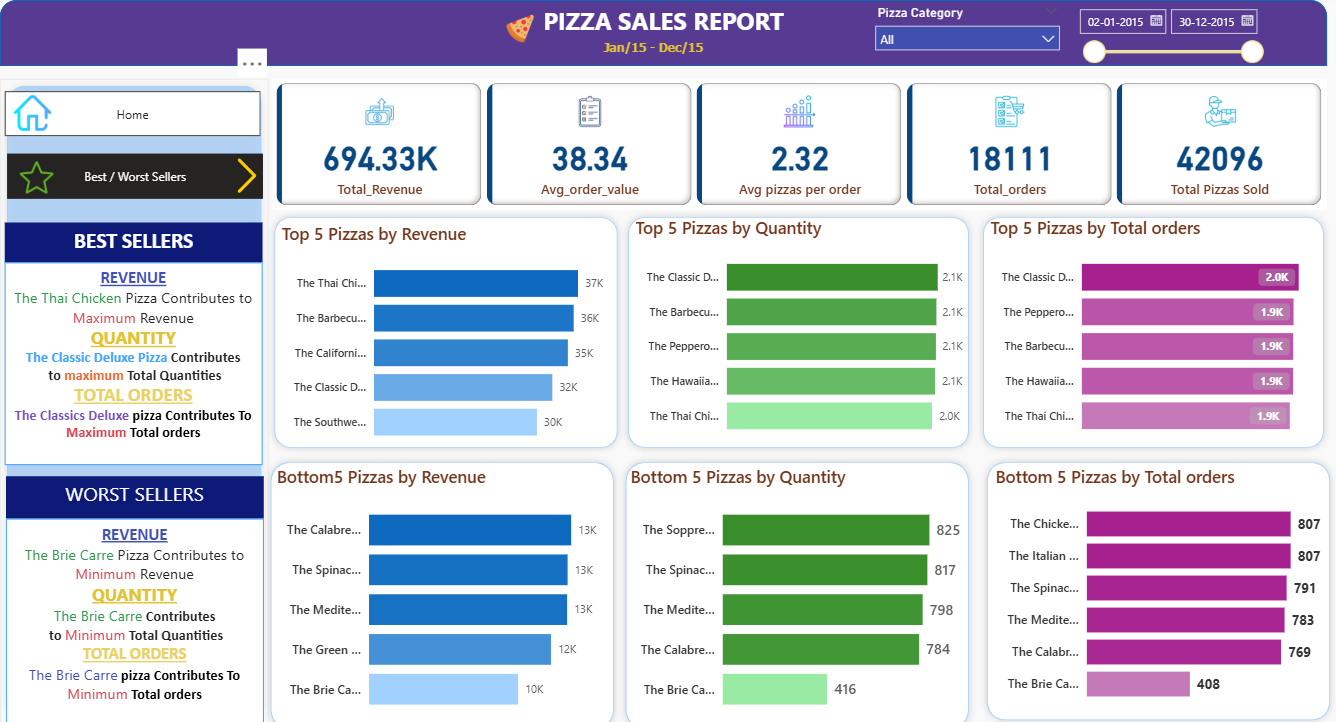

This screenshot's page, from the dashboard's own definition file:
{"tool":"powerbi","page":{"name":"Best / Worst Sellers","canvas":[1500,820],"ordinal":1},"visuals":[{"type":"cardVisual","fields":{"Data":["pizza_sales.Total_Revenue","pizza_sales.Avg_order_value","pizza_sales.Avg pizzas per order","pizza_sales.Total_orders","pizza_sales.Total Pizzas Sold"]},"box":[313.4,87.7,1175.4,146.2],"z":0},{"type":"shape","box":[9.7,0,1479,73.8],"z":1000},{"type":"textbox","box":[604.4,0,289.7,64.1],"z":2000},{"type":"textbox","box":[639.2,39,197.8,30.6],"z":3000},{"type":"image","box":[559.9,11.1,58.5,41.8],"z":4000},{"type":"shape","box":[307.8,234,398.3,273],"z":5000},{"type":"shape","box":[9.7,87.7,299.4,721.4],"z":6000},{"type":"textbox","box":[15.3,247.9,286.9,44.6],"z":7000},{"type":"textbox","box":[15.3,292.5,286.9,225.6],"z":8000},{"type":"textbox","box":[16.7,530.6,286.9,47.4],"z":9000},{"type":"textbox","box":[16.7,578,286.9,231.2],"z":10000},{"type":"slicer","title":"Pizza Category","fields":{"Values":["pizza_sales.pizza_category"]},"box":[974.9,0,225.6,71],"z":11000},{"type":"slicer","title":"Pizza Category","fields":{"Values":["pizza_sales.order_date"]},"box":[1200.5,0,225.6,73.8],"z":12000},{"type":"shape","box":[1097.4,234,395.5,273],"z":13000},{"type":"shape","box":[701.9,234,395.5,273],"z":14000},{"type":"shape","box":[303.6,506.9,398.3,313.4],"z":15000},{"type":"shape","box":[699.1,506.9,398.3,313.4],"z":16000},{"type":"shape","box":[1101.6,506.9,398.3,303.6],"z":17000},{"type":"barChart","title":"Top 5 Pizzas by Revenue","fields":{"Category":["pizza_sales.pizza_name"],"Y":["pizza_sales.Total_Revenue"]},"box":[318.9,247.9,380.2,259],"z":18000},{"type":"barChart","title":"Bottom5 Pizzas by Revenue","fields":{"Category":["pizza_sales.pizza_name"],"Y":["pizza_sales.Total_Revenue"]},"box":[313.6,517.8,379.5,291.1],"z":19000},{"type":"barChart","title":"Top 5 Pizzas by Quantity","fields":{"Category":["pizza_sales.pizza_name"],"Y":["pizza_sales.Total Pizzas Sold"]},"box":[713,240.9,374.6,259],"z":20000},{"type":"barChart","title":"Bottom 5 Pizzas by Quantity","fields":{"Category":["pizza_sales.pizza_name"],"Y":["pizza_sales.Total Pizzas Sold"]},"box":[707.5,517.8,379.5,291.1],"z":21000},{"type":"barChart","title":"Top 5 Pizzas by Total orders","fields":{"Category":["pizza_sales.pizza_name"],"Y":["pizza_sales.Total_orders"]},"box":[1108,241.2,374.7,258.9],"z":22000},{"type":"barChart","title":"Bottom 5 Pizzas by Total orders","fields":{"Category":["pizza_sales.pizza_name"],"Y":["pizza_sales.Total_orders"]},"box":[1114.4,517.8,374.7,278.2],"z":23000},{"type":"pageNavigator","box":[15.3,101.7,285.5,50.1],"z":24000},{"type":"pageNavigator","box":[18.1,171.3,285.5,50.1],"z":25000},{"type":"image","box":[16.7,100.3,58.5,51.5],"z":26000},{"type":"image","box":[257.6,171.3,55.7,48.7],"z":27000},{"type":"image","box":[26.5,174.1,48.7,47.4],"z":28000}]}

Visuals, with their boxes on the page's 1500x820 design canvas (x1, y1, x2, y2). These are canvas units, not pixel positions in the 1336x722 screenshot, which may show the page scaled, cropped or inside an application window:
cardVisual - pizza_sales.Total_Revenue x pizza_sales.Avg_order_value: crop(313, 88, 1489, 234)
shape: crop(10, 0, 1489, 74)
textbox: crop(604, 0, 894, 64)
textbox: crop(639, 39, 837, 70)
image: crop(560, 11, 618, 53)
shape: crop(308, 234, 706, 507)
shape: crop(10, 88, 309, 809)
textbox: crop(15, 248, 302, 292)
textbox: crop(15, 292, 302, 518)
textbox: crop(17, 531, 304, 578)
textbox: crop(17, 578, 304, 809)
"Pizza Category" slicer: crop(975, 0, 1200, 71)
"Pizza Category" slicer: crop(1200, 0, 1426, 74)
shape: crop(1097, 234, 1493, 507)
shape: crop(702, 234, 1097, 507)
shape: crop(304, 507, 702, 820)
shape: crop(699, 507, 1097, 820)
shape: crop(1102, 507, 1500, 810)
"Top 5 Pizzas by Revenue" barChart: crop(319, 248, 699, 507)
"Bottom5 Pizzas by Revenue" barChart: crop(314, 518, 693, 809)
"Top 5 Pizzas by Quantity" barChart: crop(713, 241, 1088, 500)
"Bottom 5 Pizzas by Quantity" barChart: crop(708, 518, 1087, 809)
"Top 5 Pizzas by Total orders" barChart: crop(1108, 241, 1483, 500)
"Bottom 5 Pizzas by Total orders" barChart: crop(1114, 518, 1489, 796)
pageNavigator: crop(15, 102, 301, 152)
pageNavigator: crop(18, 171, 304, 221)
image: crop(17, 100, 75, 152)
image: crop(258, 171, 313, 220)
image: crop(26, 174, 75, 222)
